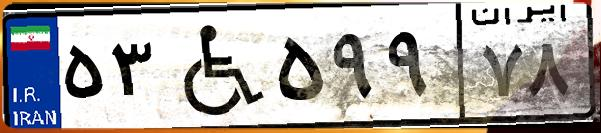3: (110, 28, 158, 98)
5: (270, 28, 330, 110), (57, 26, 110, 100)
7: (475, 38, 525, 113)
8: (525, 38, 570, 115)
9: (385, 28, 445, 110), (330, 28, 385, 110)
ژ (معلولین و جانبازان): (158, 12, 270, 120)
